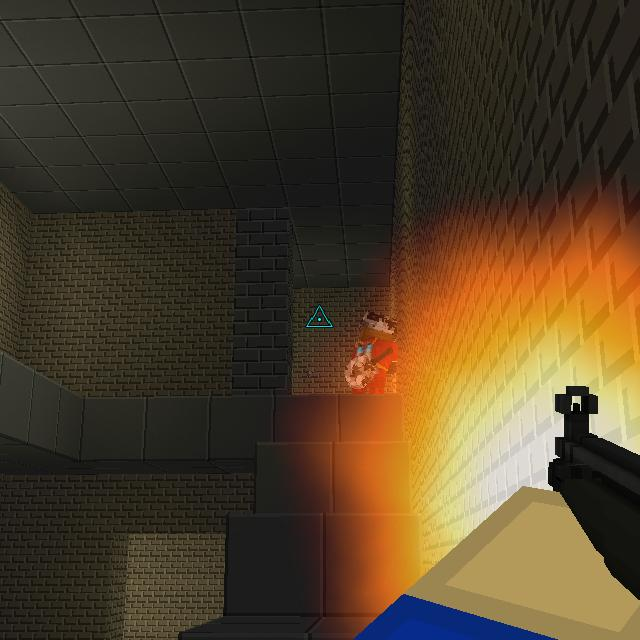enemy: (343, 310, 398, 395)
